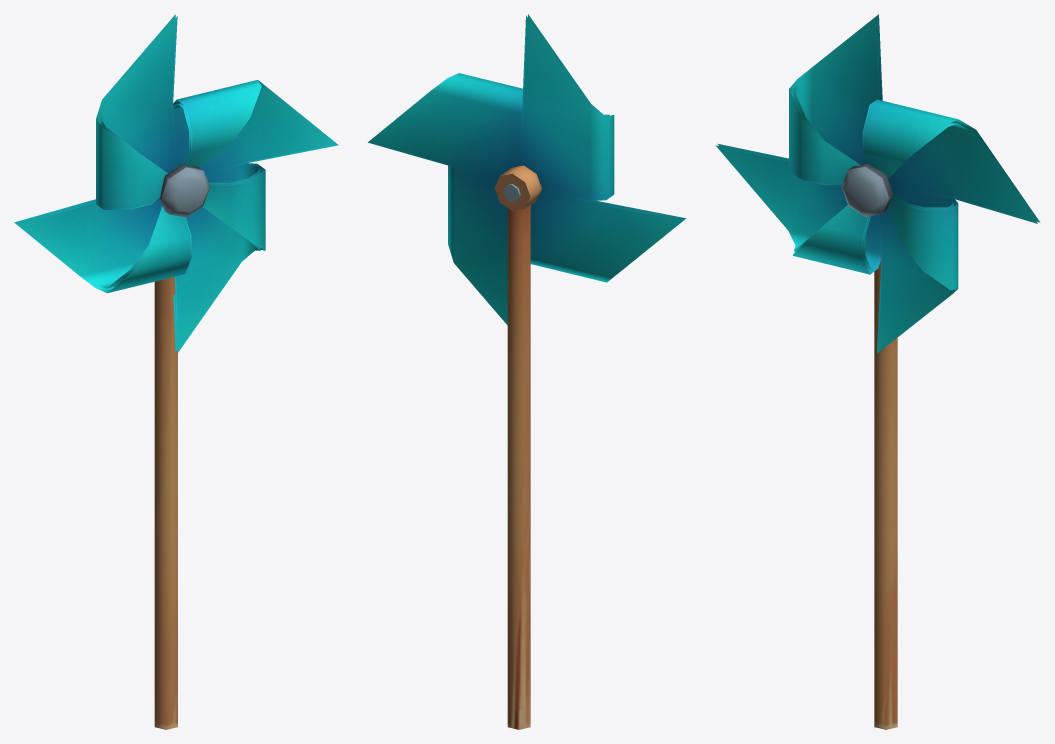
Rendered from SE_Vane_05.fbx.
3 views of the same model, side by side, from view 1: azimuth 30°, elevation 25°; view 2: azimuth 150°, elevation 25°; view 3: azimuth 330°, elevation 25° (orthographic).
Parts seen in each view (by area): view 1: SE_Vane_05; view 2: SE_Vane_05; view 3: SE_Vane_05.
Part boxes in pixels (x1,y1,x2,y2): SE_Vane_05: (14,14,338,729); SE_Vane_05: (368,14,685,729); SE_Vane_05: (715,14,1040,729).
Size of the model in its own units: 2.08 by 4.4 by 0.3684.
